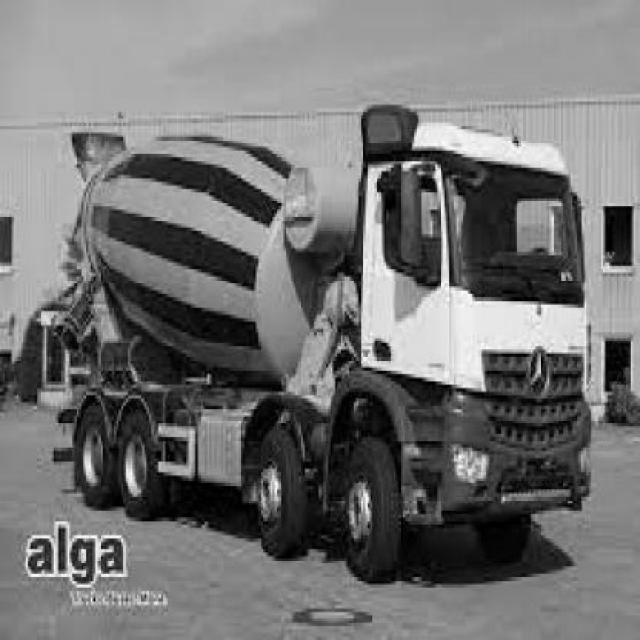Concrete Mixer: (52, 105, 593, 586)
